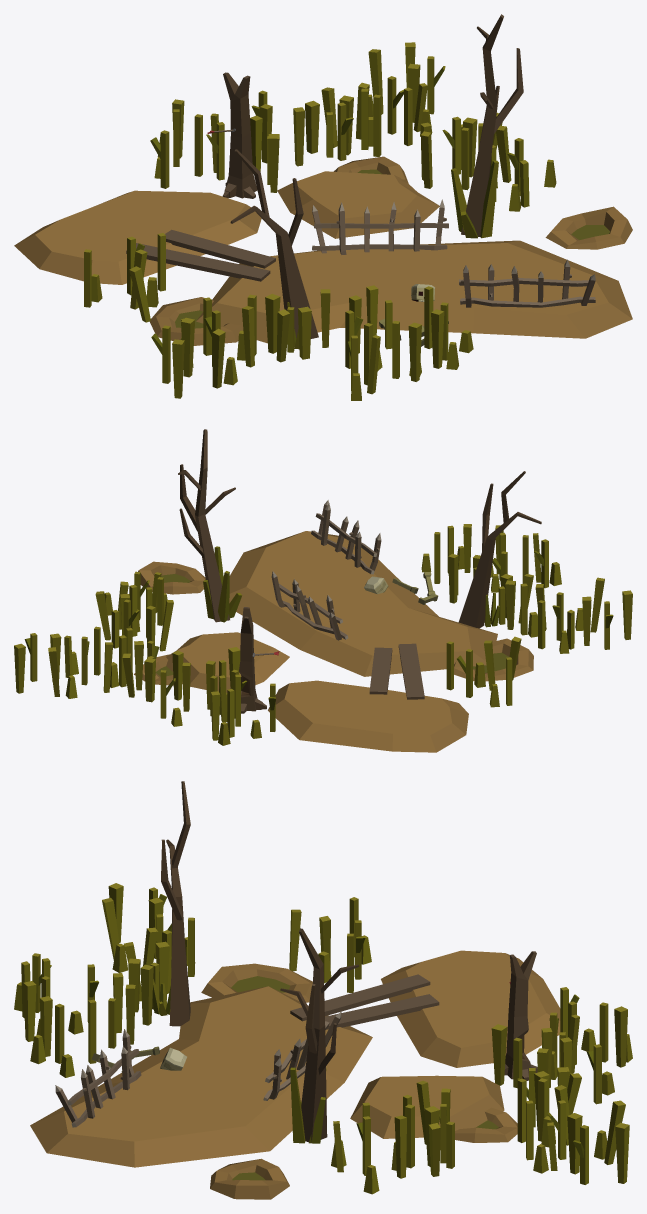
Rendered from SF_Env_Swamp_Preset_01.FBX.
3 views of the same model, one above another, from view 1: azimuth 30°, elevation 25°; view 2: azimuth 150°, elevation 25°; view 3: azimuth 270°, elevation 25° (orthographic). The views are drawn at different scales.
Visible parts, largest first — view 1: SF_Env_Swamp_Preset_01_Elements2, SF_Env_Swamp_Preset_01_Elements4, SF_Env_Swamp_Preset_01_Elements14, SF_Env_Swamp_Preset_01_Elements5, SF_Env_Swamp_Preset_01_Elements17, SF_Env_Swamp_Preset_01_Elements59, SF_Env_Swamp_Preset_01_Elements141, SF_Env_Swamp_Preset_01_Elements74, SF_Env_Swamp_Preset_01_Elements133, SF_Env_Swamp_Preset_01_Elements132, SF_Env_Swamp_Preset_01_Elements158, SF_Env_Swamp_Preset_01_Elements138 (+16 smaller); view 2: SF_Env_Swamp_Preset_01_Elements2, SF_Env_Swamp_Preset_01_Elements14, SF_Env_Swamp_Preset_01_Elements4, SF_Env_Swamp_Preset_01_Elements5, SF_Env_Swamp_Preset_01_Elements17, SF_Env_Swamp_Preset_01_Elements59, SF_Env_Swamp_Preset_01_Elements119, SF_Env_Swamp_Preset_01_Elements66, SF_Env_Swamp_Preset_01_Elements154, SF_Env_Swamp_Preset_01_Elements74; view 3: SF_Env_Swamp_Preset_01_Elements2, SF_Env_Swamp_Preset_01_Elements4, SF_Env_Swamp_Preset_01_Elements14, SF_Env_Swamp_Preset_01_Elements5, SF_Env_Swamp_Preset_01_Elements59, SF_Env_Swamp_Preset_01_Elements17, SF_Env_Swamp_Preset_01_Elements93, SF_Env_Swamp_Preset_01_Elements119, SF_Env_Swamp_Preset_01_Elements97, SF_Env_Swamp_Preset_01_Elements109, SF_Env_Swamp_Preset_01_Elements128, SF_Env_Swamp_Preset_01_Elements138 (+5 smaller).
Part boxes in pixels (box(x1,y1,x2,y2)): SF_Env_Swamp_Preset_01_Elements2: box(14, 190, 632, 345); SF_Env_Swamp_Preset_01_Elements4: box(277, 156, 439, 238); SF_Env_Swamp_Preset_01_Elements14: box(451, 14, 523, 238); SF_Env_Swamp_Preset_01_Elements5: box(230, 149, 318, 338); SF_Env_Swamp_Preset_01_Elements17: box(207, 72, 257, 198); SF_Env_Swamp_Preset_01_Elements59: box(545, 206, 632, 249); SF_Env_Swamp_Preset_01_Elements141: box(265, 293, 280, 353); SF_Env_Swamp_Preset_01_Elements74: box(305, 100, 319, 153); SF_Env_Swamp_Preset_01_Elements133: box(212, 328, 225, 388); SF_Env_Swamp_Preset_01_Elements132: box(242, 306, 254, 367); SF_Env_Swamp_Preset_01_Elements158: box(431, 309, 444, 368); SF_Env_Swamp_Preset_01_Elements138: box(408, 322, 421, 381); SF_Env_Swamp_Preset_01_Elements2: box(229, 500, 533, 752); SF_Env_Swamp_Preset_01_Elements14: box(178, 429, 242, 622); SF_Env_Swamp_Preset_01_Elements4: box(134, 632, 289, 692); SF_Env_Swamp_Preset_01_Elements5: box(458, 471, 541, 628); SF_Env_Swamp_Preset_01_Elements17: box(239, 607, 279, 713); SF_Env_Swamp_Preset_01_Elements59: box(138, 561, 205, 594); SF_Env_Swamp_Preset_01_Elements119: box(14, 643, 25, 693); SF_Env_Swamp_Preset_01_Elements66: box(172, 650, 183, 700); SF_Env_Swamp_Preset_01_Elements154: box(448, 553, 458, 603); SF_Env_Swamp_Preset_01_Elements74: box(144, 658, 155, 702); SF_Env_Swamp_Preset_01_Elements2: box(30, 950, 560, 1167); SF_Env_Swamp_Preset_01_Elements4: box(350, 1075, 517, 1142); SF_Env_Swamp_Preset_01_Elements14: box(280, 928, 358, 1143); SF_Env_Swamp_Preset_01_Elements5: box(161, 781, 190, 1026); SF_Env_Swamp_Preset_01_Elements59: box(210, 1158, 289, 1199); SF_Env_Swamp_Preset_01_Elements17: box(504, 951, 537, 1080); SF_Env_Swamp_Preset_01_Elements93: box(491, 1024, 507, 1085); SF_Env_Swamp_Preset_01_Elements119: box(615, 1122, 629, 1183); SF_Env_Swamp_Preset_01_Elements97: box(614, 1006, 627, 1067); SF_Env_Swamp_Preset_01_Elements109: box(394, 1115, 406, 1178); SF_Env_Swamp_Preset_01_Elements128: box(140, 964, 153, 1025); SF_Env_Swamp_Preset_01_Elements138: box(23, 981, 36, 1041).
Bounding box in the file's own units: 19.59 × 8.13 × 19.68.
